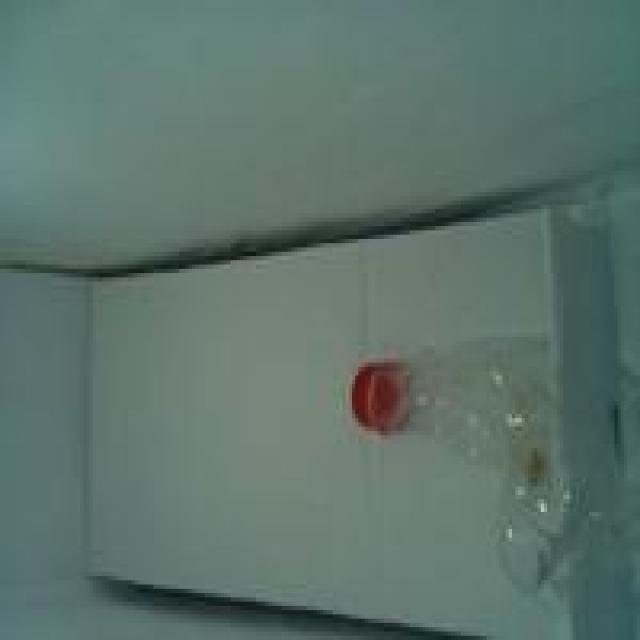bottle: (347, 334, 568, 598)
